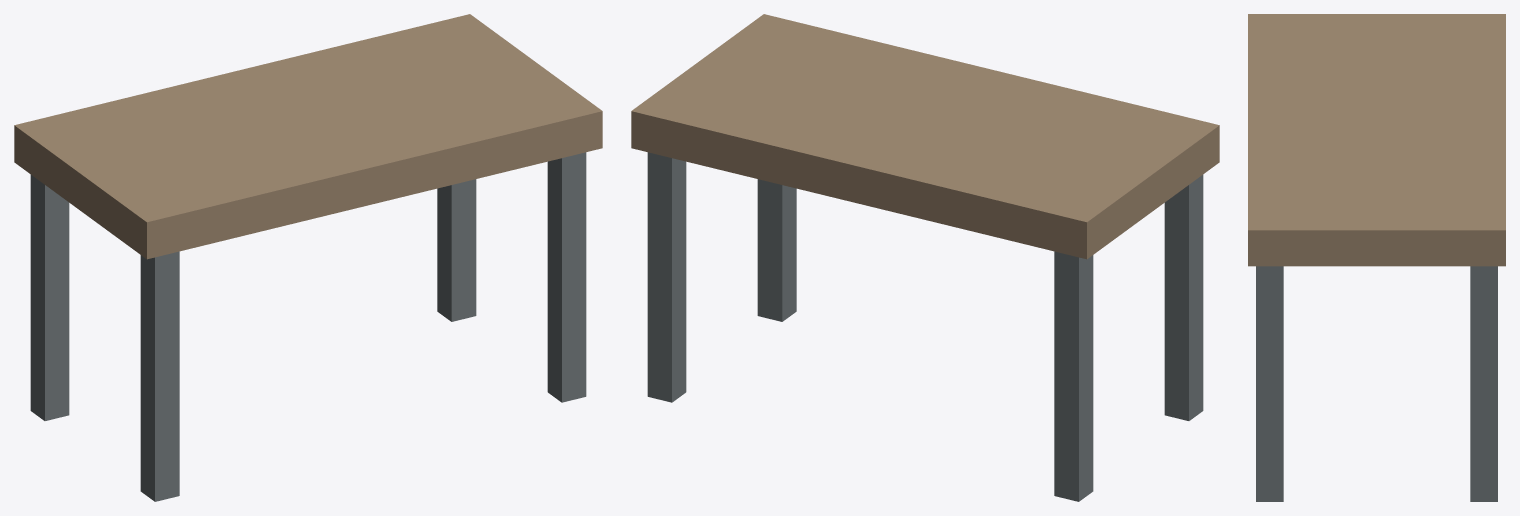
Rendered from iz2_tailor_cutting_table.glb.
The picture shows the model from 3 angles, left to right: view 1: azimuth 30°, elevation 25°; view 2: azimuth 150°, elevation 25°; view 3: azimuth 270°, elevation 25°; orthographic projection. The views are drawn at different scales.
Parts seen in each view (by area): view 1: body; view 2: body; view 3: body.
Part boxes in pixels (bbox=[...]): body: bbox=[14, 14, 602, 501]; body: bbox=[631, 14, 1219, 501]; body: bbox=[1248, 14, 1505, 501].
Bounding box in the file's own units: 1.27 × 0.7604 × 0.6403.
